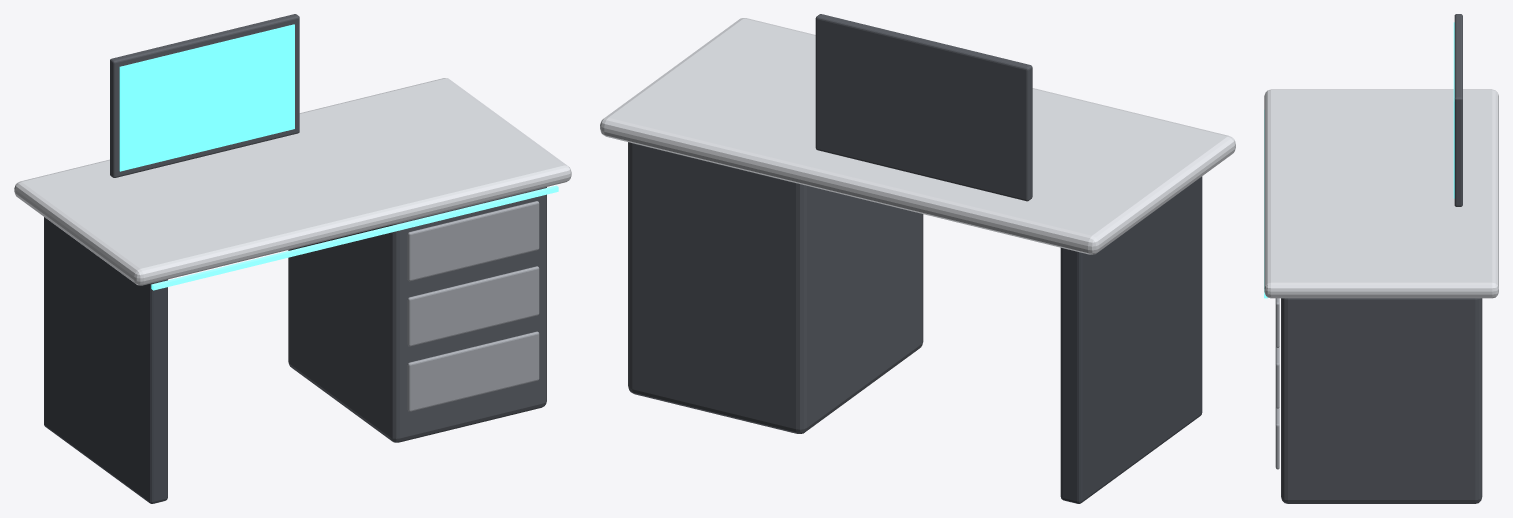
Rendered from desk_console.glb.
The picture shows the model from 3 angles, left to right: view 1: azimuth 30°, elevation 25°; view 2: azimuth 150°, elevation 25°; view 3: azimuth 270°, elevation 25°; orthographic projection. The views are drawn at different scales.
Visible parts, largest first — view 1: GD_desk_console__m0, GD_desk_console__m1, GD_desk_console__m3, GD_desk_console__m2, GD_desk_console__m5, GD_desk_console__m4; view 2: GD_desk_console__m1, GD_desk_console__m0, GD_desk_console__m3; view 3: GD_desk_console__m0, GD_desk_console__m1, GD_desk_console__m2, GD_desk_console__m5.
Boxes of the visible parts, x1,y1,x2,y2 form: GD_desk_console__m0: [14, 78, 571, 285]; GD_desk_console__m1: [110, 14, 546, 442]; GD_desk_console__m3: [44, 217, 167, 503]; GD_desk_console__m2: [407, 201, 539, 411]; GD_desk_console__m5: [119, 24, 294, 171]; GD_desk_console__m4: [151, 185, 558, 290]; GD_desk_console__m1: [628, 14, 1032, 433]; GD_desk_console__m0: [600, 18, 1235, 254]; GD_desk_console__m3: [1060, 176, 1202, 503]; GD_desk_console__m0: [1264, 89, 1498, 298]; GD_desk_console__m1: [1281, 14, 1482, 503]; GD_desk_console__m2: [1275, 298, 1279, 469]; GD_desk_console__m5: [1453, 22, 1454, 198].
Bounding box in the file's own units: 1.4 × 1.11 × 0.701.
